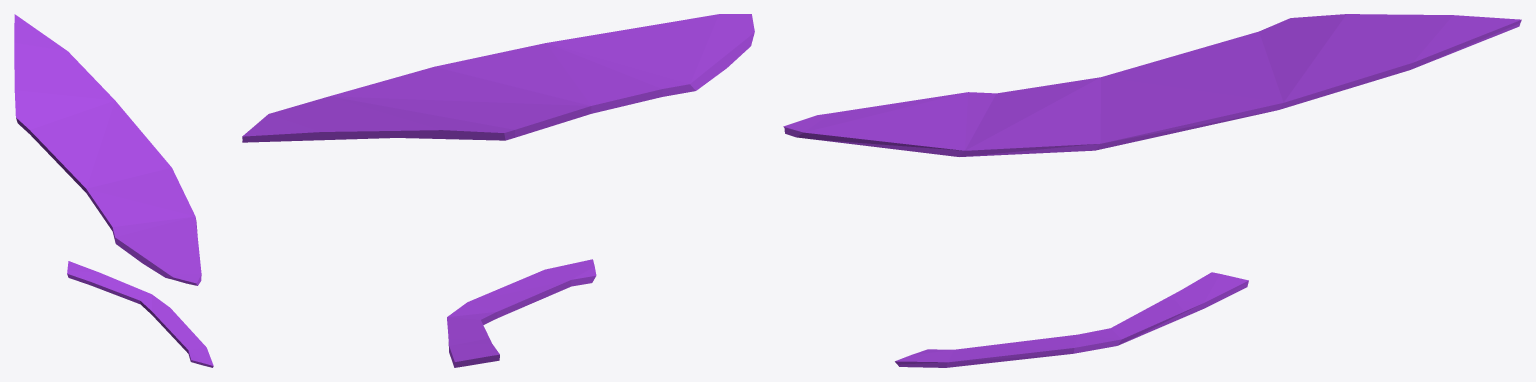
The model's file is Glass_100_3_chunks.fbx.
The picture shows the model from 3 angles, left to right: view 1: azimuth 30°, elevation 25°; view 2: azimuth 150°, elevation 25°; view 3: azimuth 270°, elevation 25°; orthographic projection. The views are drawn at different scales.
Parts seen in each view (by area): view 1: Glass_100_3_10, Glass_100_3_14, Glass_100_3_9, Glass_100_3_15, Glass_100_3_17, Glass_100_3_11, Glass_100_3_1, Glass_100_3_8, Glass_100_3_6, Glass_100_3_4, Glass_100_3_16, Glass_100_3_12 (+3 smaller); view 2: Glass_100_3_10, Glass_100_3_9, Glass_100_3_15, Glass_100_3_14, Glass_100_3_1, Glass_100_3_11, Glass_100_3_17, Glass_100_3_8, Glass_100_3_4, Glass_100_3_6, Glass_100_3_12, Glass_100_3_16 (+2 smaller); view 3: Glass_100_3_10, Glass_100_3_9, Glass_100_3_15, Glass_100_3_14, Glass_100_3_17, Glass_100_3_1, Glass_100_3_6, Glass_100_3_8, Glass_100_3_4, Glass_100_3_11, Glass_100_3_12, Glass_100_3_16 (+2 smaller).
Part boxes in pixels (box(x1,y1,x2,y2)): Glass_100_3_10: box(74, 126, 181, 211); Glass_100_3_14: box(39, 90, 111, 182); Glass_100_3_9: box(127, 211, 201, 276); Glass_100_3_15: box(14, 14, 78, 83); Glass_100_3_17: box(14, 76, 63, 143); Glass_100_3_11: box(91, 196, 142, 251); Glass_100_3_1: box(144, 305, 213, 367); Glass_100_3_8: box(146, 188, 197, 231); Glass_100_3_6: box(93, 77, 151, 143); Glass_100_3_4: box(100, 278, 171, 309); Glass_100_3_16: box(55, 74, 87, 114); Glass_100_3_12: box(67, 261, 101, 289); Glass_100_3_10: box(398, 56, 607, 117); Glass_100_3_9: box(584, 14, 746, 80); Glass_100_3_15: box(242, 110, 405, 142); Glass_100_3_14: box(332, 97, 578, 133); Glass_100_3_1: box(472, 259, 596, 323); Glass_100_3_11: box(590, 68, 709, 109); Glass_100_3_17: box(385, 116, 527, 140); Glass_100_3_8: box(482, 35, 592, 70); Glass_100_3_4: box(447, 300, 489, 340); Glass_100_3_6: box(301, 77, 398, 104); Glass_100_3_12: box(450, 338, 499, 367); Glass_100_3_16: box(311, 105, 430, 116); Glass_100_3_10: box(1009, 67, 1228, 153); Glass_100_3_9: box(797, 99, 1010, 154); Glass_100_3_15: box(1350, 14, 1521, 71); Glass_100_3_14: box(1135, 39, 1316, 98); Glass_100_3_17: box(1233, 14, 1378, 59); Glass_100_3_1: box(895, 332, 1094, 367); Glass_100_3_6: box(1149, 84, 1348, 138); Glass_100_3_8: box(922, 117, 1042, 156); Glass_100_3_4: box(1067, 299, 1183, 354); Glass_100_3_11: box(922, 80, 1081, 114); Glass_100_3_12: box(1165, 272, 1248, 303); Glass_100_3_16: box(1276, 50, 1355, 79).
Bounding box in the file's own units: 1006 × 2054 × 4004.
